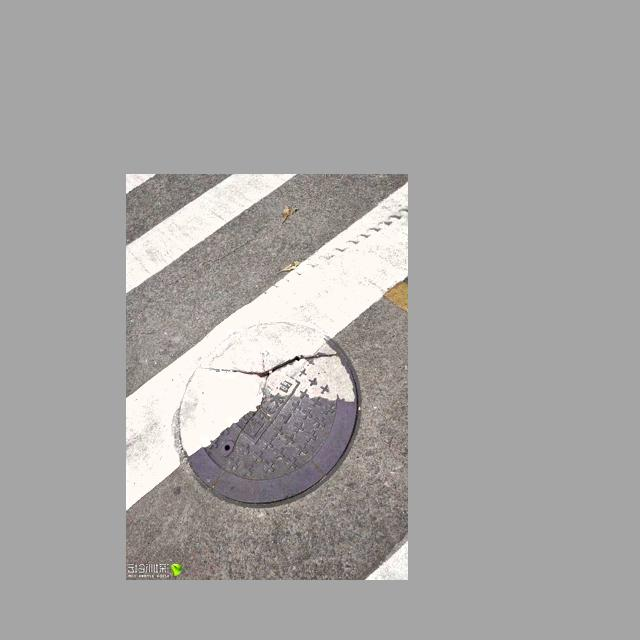broke: (164, 310, 372, 508)
